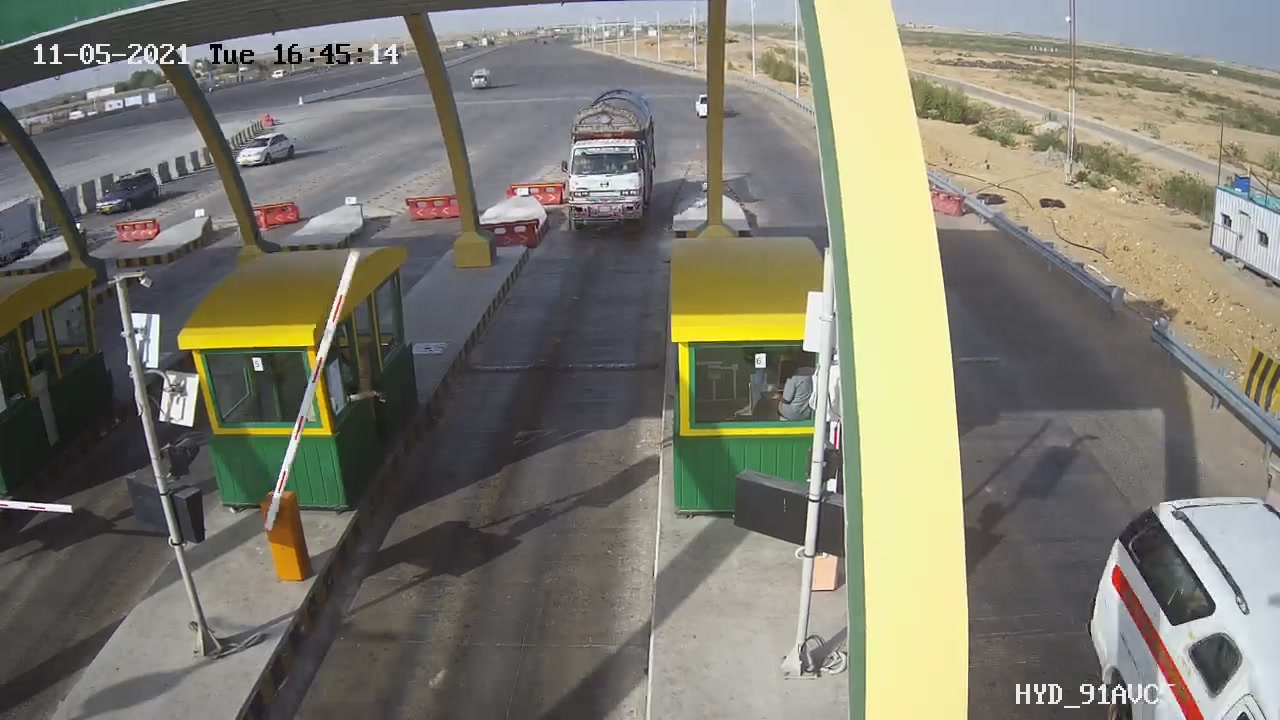F5: (544, 79, 676, 246)
